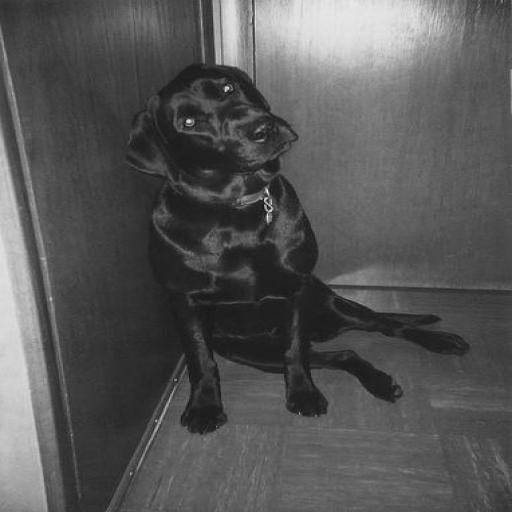dog_face: (127, 64, 301, 184)
